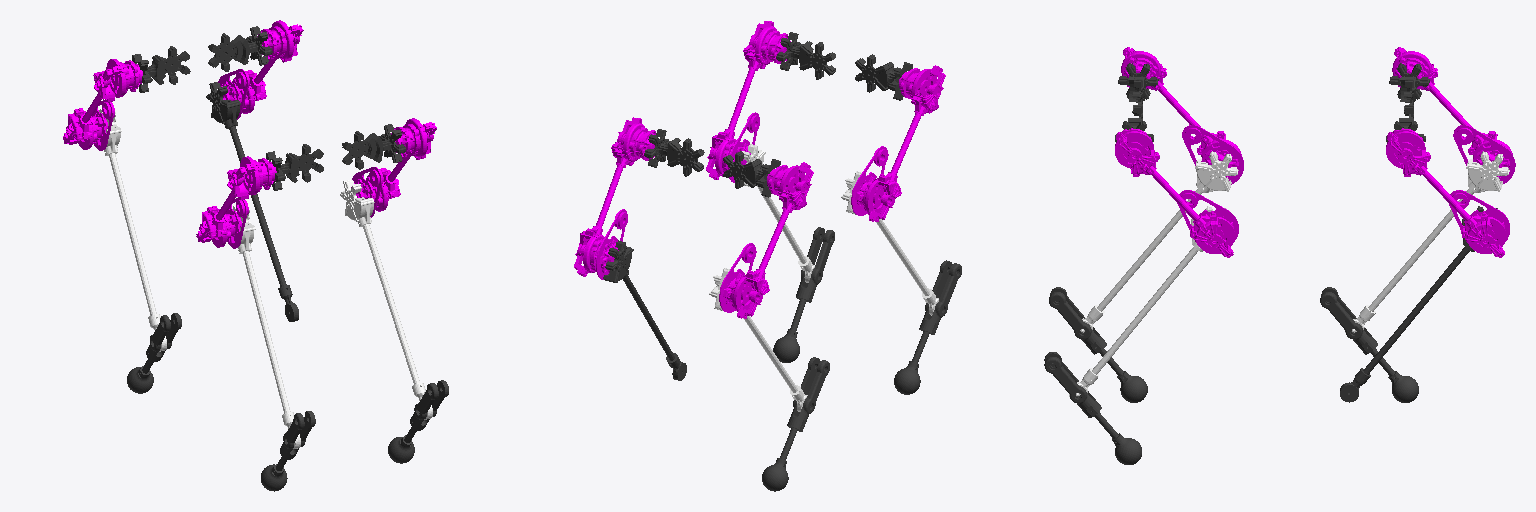
--- What the picture shows (computed from the rendered views, not written in the file) ---
Views: 3 orthographic renders of the robot side by side, from view 1: azimuth 30°, elevation 25°; view 2: azimuth 150°, elevation 25°; view 3: azimuth 270°, elevation 25°.
Model husky with 18 links and 17 joints (16 revolute, 1 fixed), rooted at base_link, posed every joint at zero.
Visible links, largest first — view 1: fl_femur, bl_femur, fr_femur, br_femur, br_tibia, fr_tibia, fl_tibia, bl_tibia, fr_hip, br_ankle, br_hip, fl_ankle1 (+3 smaller); view 2: bl_femur, fl_femur, fr_femur, br_femur, bl_ankle1, fl_ankle1, br_ankle, fr_tibia, fr_hip, br_hip, bl_hip, fl_hip (+3 smaller); view 3: br_femur, fr_femur, fl_femur, bl_femur, bl_tibia, fl_tibia, fl_ankle1, bl_ankle1, br_ankle, fr_tibia, br_tibia, bl_hip (+1 smaller).
Boxes of the visible links, <box> form: fl_femur: <box>63,59,142,150</box>; bl_femur: <box>196,156,276,248</box>; fr_femur: <box>218,20,303,119</box>; br_femur: <box>351,118,436,217</box>; br_tibia: <box>340,179,432,419</box>; fr_tibia: <box>206,82,298,321</box>; fl_tibia: <box>99,108,166,351</box>; bl_tibia: <box>233,205,300,448</box>; fr_hip: <box>208,26,272,71</box>; br_ankle: <box>388,380,448,463</box>; br_hip: <box>342,124,405,169</box>; fl_ankle1: <box>127,313,181,393</box>; bl_femur: <box>851,65,945,221</box>; fl_femur: <box>719,162,813,318</box>; fr_femur: <box>574,117,655,279</box>; br_femur: <box>706,21,790,182</box>; bl_ankle1: <box>894,260,961,394</box>; fl_ankle1: <box>762,357,829,491</box>; br_ankle: <box>773,227,834,362</box>; fr_tibia: <box>603,240,686,380</box>; fr_hip: <box>644,129,704,176</box>; br_hip: <box>776,32,835,79</box>; bl_hip: <box>855,54,912,100</box>; fl_hip: <box>723,151,780,197</box>; br_femur: <box>1115,128,1238,257</box>; fr_femur: <box>1386,128,1509,257</box>; fl_femur: <box>1392,47,1515,183</box>; bl_femur: <box>1121,47,1243,184</box>; bl_tibia: <box>1080,151,1238,332</box>; fl_tibia: <box>1345,151,1509,332</box>; fl_ankle1: <box>1320,287,1418,402</box>; bl_ankle1: <box>1049,287,1147,402</box>; br_ankle: <box>1044,352,1141,464</box>; fr_tibia: <box>1340,206,1497,402</box>; br_tibia: <box>1069,206,1226,396</box>; bl_hip: <box>1118,63,1158,115</box>.
Bounding box of the posed robot: 0.3418 × 0.6857 × 0.5489 m (x, y, z).
Meshes: 17 distinct files referenced, 15 mesh visuals loaded (15 binary STL); not drawn: 2 (reference not matched to a file when rendering).

The robot description file, URDF, robot "husky":
<?xml version="1.0" encoding="utf-8"?>
<!-- This URDF was automatically created by SolidWorks to URDF Exporter! Originally created by Stephen Brawner ([email redacted]) 
     Commit Version: 1.5.1-0-g916b5db  Build Version: 1.5.7152.31018
     For more information, please see http://wiki.ros.org/sw_urdf_exporter -->
<robot
  name="husky">
  <link name="base_link" />
  <joint name="base_link_to_body" type="fixed">
    <parent link="base_link"/>
    <child link="body_link"/>
  </joint>
  <link
    name="body_link">
    <inertial>
      <origin
        xyz="4.06758537265656E-06 0.000820071186987414 -0.0130892456746474"
        rpy="0 0 0" />
      <mass
        value="0.650642071200738" />
      <inertia
        ixx="0.000702785587982822"
        ixy="3.10268003525812E-12"
        ixz="-1.39769952404109E-08"
        iyy="0.000575707963375727"
        iyz="3.49464208277368E-05"
        izz="0.00038021356021992" />
    </inertial>
    <visual>
      <origin
        xyz="0 0 0"
        rpy="0 0 0" />
      <geometry>
        <mesh
          filename="package://husky/meshes/body_link.STL" />
      </geometry>
      <material
        name="">
        <color
          rgba="1 1 1 1" />
      </material>
    </visual>
    <collision>
      <origin
        xyz="0 0 0"
        rpy="0 0 0" />
      <geometry>
        <mesh
          filename="package://husky/meshes/body_link.STL" />
      </geometry>
    </collision>
  </link>
  <link
    name="fr_hip">
    <inertial>
      <origin
        xyz="0.0235659416192397 -5.02975094754526E-05 -0.00302882523131529"
        rpy="0 0 0" />
      <mass
        value="0.043087821298853" />
      <inertia
        ixx="9.96889081166613E-06"
        ixy="7.48752042250553E-08"
        ixz="-2.39318971572093E-06"
        iyy="2.495443482671E-05"
        iyz="5.09645733504537E-09"
        izz="2.81283771269796E-05" />
    </inertial>
    <visual>
      <origin
        xyz="0 0 0"
        rpy="0 0 0" />
      <geometry>
        <mesh
          filename="package://husky/meshes/fr_hip.STL" />
      </geometry>
      <material
        name="">
        <color
          rgba="0.298039215686275 0.298039215686275 0.298039215686275 1" />
      </material>
    </visual>
    <collision>
      <origin
        xyz="0 0 0"
        rpy="0 0 0" />
      <geometry>
        <mesh
          filename="package://husky/meshes/fr_hip.STL" />
      </geometry>
    </collision>
  </link>
  <joint
    name="fr_hip_frontal"
    type="revolute">
    <origin
      xyz="0.045 0.2087 6.7316E-05"
      rpy="1.5708 -0.0089958 0" />
    <parent
      link="body_link" />
    <child
      link="fr_hip" />
    <axis
      xyz="0 0 1" />
    <limit
      lower="-3.1416"
      upper="3.1416"
      effort="1000"
      velocity="1000" />
  </joint>
  <link
    name="fr_femur">
    <inertial>
      <origin
        xyz="0.0977320131555891 0.000213425452149169 0.0151762014845763"
        rpy="0 0 0" />
      <mass
        value="0.141836258887396" />
      <inertia
        ixx="2.7823052910979E-05"
        ixy="4.29443317670773E-09"
        ixz="-1.68703794772547E-09"
        iyy="4.88420495545191E-05"
        iyz="2.55345263711604E-07"
        izz="6.72264489194492E-05" />
    </inertial>
    <visual>
      <origin
        xyz="0 0 0"
        rpy="0 0 0" />
      <geometry>
        <mesh
          filename="package://husky/meshes/fr_femur.STL" />
      </geometry>
      <material
        name="">
        <color
          rgba="1 0 1 1" />
      </material>
    </visual>
    <collision>
      <origin
        xyz="0 0 0"
        rpy="0 0 0" />
      <geometry>
        <mesh
          filename="package://husky/meshes/fr_femur.STL" />
      </geometry>
    </collision>
  </link>
  <joint
    name="fr_hip_sagittal"
    type="revolute">
    <origin
      xyz="0.103120000000001 0 0"
      rpy="1.58460354760444 0.709564137847273 -1.5707963267949" />
    <parent
      link="fr_hip" />
    <child
      link="fr_femur" />
    <axis
      xyz="0 0 1" />
    <limit
      lower="-3.1416"
      upper="3.1416"
      effort="1000"
      velocity="1000" />
  </joint>
 
  <link
    name="fr_tibia">
    <inertial>
      <origin
        xyz="0.108667402573553 1.03670573461945E-05 -0.00287570362838266"
        rpy="0 0 0" />
      <mass
        value="0.0478195851341902" />
      <inertia
        ixx="8.45826029568533E-06"
        ixy="9.485425634069E-10"
        ixz="-1.28983370549278E-06"
        iyy="4.69251077636551E-05"
        iyz="-1.94160829243736E-09"
        izz="5.27944193001364E-05" />
    </inertial>
    <visual>
      <origin
        xyz="0 0 0"
        rpy="0 0 0" />
      <geometry>
        <mesh
          filename="package://husky/meshes/fr_tibia.STL" />
      </geometry>
      <material
        name="">
        <color
          rgba="0.298039215686275 0.298039215686275 0.298039215686275 1" />
      </material>
    </visual>
    <collision>
      <origin
        xyz="0 0 0"
        rpy="0 0 0" />
      <geometry>
        <mesh
          filename="package://husky/meshes/fr_tibia.STL" />
      </geometry>
    </collision>
  </link>
  <joint
    name="fr_knee"
    type="revolute">
    <origin
      xyz="0.179999999999999 0.000595348444745458 0.0431158898809868"
      rpy="3.13857993756883 0.013474547784072 1.35082136703004" />
    <parent
      link="fr_femur" />
    <child
      link="fr_tibia" />
    <axis
      xyz="0 0 -1" />
    <limit
      lower="-3.1416"
      upper="3.1416"
      effort="1000"
      velocity="1000" />
  </joint>

  <!--><link
    name="fr_fibula">
    <inertial>
      <origin
        xyz="0.170112072730515 -3.34118677169926E-10 -6.135396598686E-05"
        rpy="0 0 0" />
      <mass
        value="0.0286089978267731" />
      <inertia
        ixx="1.22504250160217E-06"
        ixy="-2.3511926483844E-13"
        ixz="-4.49710595129967E-08"
        iyy="4.02627508345098E-05"
        iyz="2.05500068305621E-14"
        izz="4.07891301279069E-05" />
    </inertial>
    <visual>
      <origin
        xyz="0 0 0"
        rpy="0 0 0" />
      <geometry>
        <mesh
          filename="package://husky/meshes/fr_fibula.STL" />
      </geometry>
      <material
        name="">
        <color
          rgba="0.298039215686275 0.298039215686275 0.298039215686275 1" />
      </material>
    </visual>
    <collision>
      <origin
        xyz="0 0 0"
        rpy="0 0 0" />
      <geometry>
        <mesh
          filename="package://husky/meshes/fr_fibula.STL" />
      </geometry>
    </collision>
  </link>
  <joint
    name="fr_control_rod"
    type="revolute">
    <origin
      xyz="-0.0130911226541172 -0.0585544405459958 0"
      rpy="0 0 0.00228072916830797" />
    <parent
      link="fr_tibia" />
    <child
      link="fr_fibula" />
    <axis
      xyz="0 0 -1" />
    <limit
      lower="-1.10000"
      upper="1.10000"
      effort="1000"
      velocity="1000" />
  </joint><!-->
  <link
    name="fr_ankle1">
    <inertial>
      <origin
        xyz="0.0527701413832593 5.98786159544673E-09 -3.07167094537597E-09"
        rpy="0 0 0" />
      <mass
        value="0.0716006134744626" />
      <inertia
        ixx="9.73912821038023E-06"
        ixy="9.99833576307028E-12"
        ixz="-6.12733558966033E-12"
        iyy="4.80541438877769E-05"
        iyz="-2.52914459536402E-08"
        izz="4.65434271131211E-05" />
    </inertial>
    <visual>
      <origin
        xyz="0 0 0"
        rpy="0 0 0" />
      <geometry>
        <mesh
          filename="package://husky/meshes/fr_ankle1.STL" />
      </geometry>
      <material
        name="">
        <color
          rgba="0.250980392156863 0.250980392156863 0.250980392156863 1" />
      </material>
    </visual>
    <collision>
      <origin
        xyz="0 0 0"
        rpy="0 0 0" />
      <geometry>
        <mesh
          filename="package://husky/meshes/fr_ankle1.STL" />
      </geometry>
    </collision>
  </link>
  <joint
    name="fr_ankle1"
    type="revolute">
    <origin
      xyz="0.332999999999978 0 0"
      rpy="0.0147095738050274 0 1.29927256648305" />
    <parent
      link="fr_tibia" />
    <child
      link="fr_ankle1" />
    <axis
      xyz="0 0 -1" />
    <limit
      lower="-3.1416"
      upper="3.1416"
      effort="1000"
      velocity="1000" />
  </joint>

  <!--><gazebo>
    <plugin name="Myrobot_ClosedLoopPlugin" filename="libpegasus_gazebo_closed_loop_plugin.so">
       <joint>add_joint</joint>
       <child>fr_ankle</child>
       <parent>fr_fibula</parent>
       <position>0.316908019061522 -0.0578018005729246 0</position>
       <rotation>-3.12688307978477 0 1.29927256648305</rotation>
    </plugin>
  </gazebo>
  <joint
    name="fr_ankle2"
    type="revolute">
    <origin
      xyz="0.316908019061522 -0.0578018005729246 0"
      rpy="-3.12688307978477 0 1.29927256648305" />
    <parent
      link="fr_tibia" />
    <child
      link="fr_ankle2" />
    <axis
      xyz="0 0 -1" />
    <limit
      lower="-3.1416"
      upper="3.1416"
      effort="1000"
      velocity="1000" />
  </joint><!-->
  <link
    name="fl_hip">
    <inertial>
      <origin
        xyz="0.0282493684612892 -6.02933629341613E-05 -0.00254584522661777"
        rpy="0 0 0" />
      <mass
        value="0.0359443463061796" />
      <inertia
        ixx="9.43685191828271E-06"
        ixy="7.37780811237925E-08"
        ixz="-2.39318969539326E-06"
        iyy="2.44222430667982E-05"
        iyz="5.0964428440272E-09"
        izz="2.70762020706881E-05" />
    </inertial>
    <visual>
      <origin
        xyz="0 0 0"
        rpy="0 0 0" />
      <geometry>
        <mesh
          filename="package://husky/meshes/fl_hip.STL" />
      </geometry>
      <material
        name="">
        <color
          rgba="0.298039215686275 0.298039215686275 0.298039215686275 1" />
      </material>
    </visual>
    <collision>
      <origin
        xyz="0 0 0"
        rpy="0 0 0" />
      <geometry>
        <mesh
          filename="package://husky/meshes/fl_hip.STL" />
      </geometry>
    </collision>
  </link>
  <joint
    name="fl_hip_frontal"
    type="revolute">
    <origin
      xyz="-0.045 0.2087 6.7316E-05"
      rpy="-1.5708 0.0041099 -3.2416" />
    <parent
      link="body_link" />
    <child
      link="fl_hip" />
    <axis
      xyz="0 0 1" />
    <limit
      lower="-3.1416"
      upper="3.1416"
      effort="1000"
      velocity="1000" />
  </joint>

  <link
    name="fl_femur">
    <inertial>
      <origin
        xyz="0.097735664566592 -8.86668196140028E-05 -0.0151774442732597"
        rpy="0 0 0" />
      <mass
        value="0.141836241024003" />
      <inertia
        ixx="2.78209084130127E-05"
        ixy="-6.86050485994064E-09"
        ixz="-2.10349354351967E-10"
        iyy="4.88413151042281E-05"
        iyz="1.11126612612072E-07"
        izz="6.72293195789235E-05" />
    </inertial>
    <visual>
      <origin
        xyz="0 0 0"
        rpy="0 0 0" />
      <geometry>
        <mesh
          filename="package://husky/meshes/fl_femur.STL" />
      </geometry>
      <material
        name="">
        <color
          rgba="1 0 1 1" />
      </material>
    </visual>
    <collision>
      <origin
        xyz="0 0 0"
        rpy="0 0 0" />
      <geometry>
        <mesh
          filename="package://husky/meshes/fl_femur.STL" />
      </geometry>
    </collision>
  </link>
  <joint
    name="fl_hip_sagittal"
    type="revolute">
    <origin
      xyz="0.10311999999997 0 0"
      rpy="1.57704053014338 0.718419414164997 1.5707963267949" />
    <parent
      link="fl_hip" />
    <child
      link="fl_femur" />
    <axis
      xyz="0 0 -1" />
    <limit
      lower="-3.1416"
      upper="3.1416"
      effort="1000"
      velocity="1000" />
  </joint>

  <link
    name="fl_tibia">
    <inertial>
      <origin
        xyz="0.108667372217361 -3.01266882989371E-05 0.00287556526811775"
        rpy="0 0 0" />
      <mass
        value="0.0478195985634725" />
      <inertia
        ixx="8.45826258942994E-06"
        ixy="-9.81410668381142E-09"
        ixz="1.2897970285412E-06"
        iyy="4.69254141357913E-05"
        iyz="-4.22777598113288E-08"
        izz="5.27941202508793E-05" />
    </inertial>
    <visual>
      <origin
        xyz="0 0 0"
        rpy="0 0 0" />
      <geometry>
        <mesh
          filename="package://husky/meshes/fl_tibia.STL" />
      </geometry>
      <material
        name="">
        <color
          rgba="1 1 1 1" />
      </material>
    </visual>
    <collision>
      <origin
        xyz="0 0 0"
        rpy="0 0 0" />
      <geometry>
        <mesh
          filename="package://husky/meshes/fl_tibia.STL" />
      </geometry>
    </collision>
  </link>
  <joint
    name="fl_knee"
    type="revolute">
    <origin
      xyz="0.180000000037508 -0.000269248312142284 -0.0431191593767014"
      rpy="3.13340999472434 0.00610524102154951 1.359428333786" />
    <parent
      link="fl_femur" />
    <child
      link="fl_tibia" />
    <axis
      xyz="0 0 -1" />
    <limit
      lower="-3.1416"
      upper="3.1416"
      effort="1000"
      velocity="1000" />
  </joint>

  <!--><link
    name="fl_fibula">
    <inertial>
      <origin
        xyz="0.173017618887629 8.24402370924737E-07 -0.000119643467643107"
        rpy="0 0 0" />
      <mass
        value="0.0281285567790405" />
      <inertia
        ixx="1.21294907481145E-06"
        ixy="3.09741312563093E-10"
        ixz="-4.49699929206444E-08"
        iyy="4.02491489145296E-05"
        iyz="-3.6919425092119E-09"
        izz="4.07847285314466E-05" />
    </inertial>
    <visual>
      <origin
        xyz="0 0 0"
        rpy="0 0 0" />
      <geometry>
        <mesh
          filename="package://husky/meshes/fl_fibula.STL" />
      </geometry>
      <material
        name="">
        <color
          rgba="1 1 1 1" />
      </material>
    </visual>
    <collision>
      <origin
        xyz="0 0 0"
        rpy="0 0 0" />
      <geometry>
        <mesh
          filename="package://husky/meshes/fl_fibula.STL" />
      </geometry>
    </collision>
  </link>
  <joint
    name="fl_control_rod"
    type="revolute">
    <origin
      xyz="-0.0125876240226939 -0.0586633545982407 -0.000403178925974287"
      rpy="-2.0332093218573E-05 -1.51010961736925E-05 0.0021972420646294" />
    <parent
      link="fl_tibia" />
    <child
      link="fl_fibula" />
    <axis
      xyz="0 0 -1" />
    <limit
      lower="-3.1416"
      upper="3.1416"
      effort="1000"
      velocity="1000" />
  </joint><!-->
  <link
    name="fl_ankle1">
    <inertial>
      <origin
        xyz="0.0527701410212171 -1.66704727799782E-09 6.22933769844902E-09"
        rpy="0 0 0" />
      <mass
        value="0.0716006126035054" />
      <inertia
        ixx="9.73912803612692E-06"
        ixy="-4.16771955149913E-12"
        ixz="9.95982526725273E-12"
        iyy="4.80525051443511E-05"
        iyz="-8.96051836966132E-09"
        izz="4.65450652732413E-05" />
    </inertial>
    <visual>
      <origin
        xyz="0 0 0"
        rpy="0 0 0" />
      <geometry>
        <mesh
          filename="package://husky/meshes/fl_ankle1.STL" />
      </geometry>
      <material
        name="">
        <color
          rgba="0.298039215686275 0.298039215686275 0.298039215686275 1" />
      </material>
    </visual>
    <collision>
      <origin
        xyz="0 0 0"
        rpy="0 0 0" />
      <geometry>
        <mesh
          filename="package://husky/meshes/fl_ankle1.STL" />
      </geometry>
    </collision>
  </link>
  <joint
    name="fl_ankle1"
    type="revolute">
    <origin
      xyz="0.332999999999946 0 0"
      rpy="-3.13316320450768 -0.00663664144842005 1.30796805589786" />
    <parent
      link="fl_tibia" />
    <child
      link="fl_ankle1" />
    <axis
      xyz="0 0 1" />
    <limit
      lower="-3.1416"
      upper="3.1416"
      effort="1000"
      velocity="1000" />
  </joint>

  <!--><joint
    name="fl_ankle2"
    type="revolute">
    <origin
      xyz="0.317411579340789 -0.057938265257049 -0.000398195563863113"
      rpy="-3.13980706527822 -0.00663664144870868 1.30796805589888" />
    <parent
      link="fl_tibia" />
    <child
      link="fl_ankle2" />
    <axis
      xyz="0 0 -1" />
    <limit
      lower="-3.1416"
      upper="3.1416"
      effort="1000"
      velocity="1000" />
  </joint><!-->
  <link
    name="bl_hip">
    <inertial>
      <origin
        xyz="0.0282493778011171 5.58098405673731E-05 -0.0025458451994235"
        rpy="0 0 0" />
      <mass
        value="0.0359443464082496" />
      <inertia
        ixx="9.4364985732862E-06"
        ixy="1.21872410896532E-08"
        ixz="-2.39319042112897E-06"
        iyy="2.4422596375907E-05"
        iyz="-4.73944244968578E-09"
        izz="2.707620203077E-05" />
    </inertial>
    <visual>
      <origin
        xyz="0 0 0"
        rpy="0 0 0" />
      <geometry>
        <mesh
          filename="package://husky/meshes/bl_hip.STL" />
      </geometry>
      <material
        name="">
        <color
          rgba="0.298039215686275 0.298039215686275 0.298039215686275 1" />
      </material>
    </visual>
    <collision>
      <origin
        xyz="0 0 0"
        rpy="0 0 0" />
      <geometry>
        <mesh
          filename="package://husky/meshes/bl_hip.STL" />
      </geometry>
    </collision>
  </link>
  <joint
    name="bl_hip_frontal"
    type="revolute">
    <origin
      xyz="-0.045 -0.1862 0.00021732"
      rpy="-1.5708 0 -3.2416" />
    <parent
      link="body_link" />
    <child
      link="bl_hip" />
    <axis
      xyz="0 0 1" />
    <limit
      lower="-3.1416"
      upper="3.1416"
      effort="1000"
      velocity="1000" />
  </joint>

  <link
    name="bl_femur">
    <inertial>
      <origin
        xyz="0.097735664030511 6.1053197306371E-06 -0.015177702019726"
        rpy="0 0 0" />
      <mass
        value="0.14183624144033" />
      <inertia
        ixx="2.78209084541693E-05"
        ixy="-6.85901673387895E-09"
        ixz="-2.53196051268353E-10"
        iyy="4.88406444373774E-05"
        iyz="-3.69749931028712E-09"
        izz="6.7229990581419E-05" />
    </inertial>
    <visual>
      <origin
        xyz="0 0 0"
        rpy="0 0 0" />
      <geometry>
        <mesh
          filename="package://husky/meshes/bl_femur.STL" />
      </geometry>
      <material
        name="">
        <color
          rgba="1 0 1 1" />
      </material>
    </visual>
    <collision>
      <origin
        xyz="0 0 0"
        rpy="0 0 0" />
      <geometry>
        <mesh
          filename="package://husky/meshes/bl_femur.STL" />
      </geometry>
    </collision>
  </link>
  <joint
    name="bl_hip_sagittal"
    type="revolute">
    <origin
      xyz="0.103119129071278 0.000423815496092828 0"
      rpy="1.57079632690475 0.718419414157781 1.57490626396013" />
    <parent
      link="bl_hip" />
    <child
      link="bl_femur" />
    <axis
      xyz="0 0 -1" />
    <limit
      lower="-3.1416"
      upper="3.1416"
      effort="1000"
      velocity="1000" />
  </joint>

  <link
    name="bl_tibia">
    <inertial>
      <origin
        xyz="0.108667373405208 -3.01269721454736E-05 0.00287556518947636"
        rpy="0 0 0" />
      <mass
        value="0.0478195979882888" />
      <inertia
        ixx="8.45826223669303E-06"
        ixy="-9.81416372659261E-09"
        ixz="1.28979701650448E-06"
        iyy="4.69254141126836E-05"
        iyz="-4.22776893917143E-08"
        izz="5.27941199036933E-05" />
    </inertial>
    <visual>
      <origin
        xyz="0 0 0"
        rpy="0 0 0" />
      <geometry>
        <mesh
          filename="package://husky/meshes/bl_tibia.STL" />
      </geometry>
      <material
        name="">
        <color
          rgba="1 1 1 1" />
      </material>
    </visual>
    <collision>
      <origin
        xyz="0 0 0"
        rpy="0 0 0" />
      <geometry>
        <mesh
          filename="package://husky/meshes/bl_tibia.STL" />
      </geometry>
    </collision>
  </link>
  <joint
    name="bl_knee"
    type="revolute">
    <origin
      xyz="0.18000000003612 0 -0.0431200000000808"
      rpy="3.13472000571321 0 1.35943233275826" />
    <parent
      link="bl_femur" />
    <child
      link="bl_tibia" />
    <axis
      xyz="0 0 -1" />
    <limit
      lower="-3.1416"
      upper="3.1416"
      effort="1000"
      velocity="1000" />
  </joint>

  <!--><link
    name="bl_fibula">
    <inertial>
      <origin
        xyz="0.173017618887026 -3.09157005551342E-10 -0.000119646307878016"
        rpy="0 0 0" />
      <mass
        value="0.0281285567790405" />
      <inertia
        ixx="1.21294907481142E-06"
        ixy="-2.40099988080764E-13"
        ixz="-4.49710596151099E-08"
        iyy="4.02491234658541E-05"
        iyz="2.20003593228256E-14"
        izz="4.07847539801219E-05" />
    </inertial>
    <visual>
      <origin
        xyz="0 0 0"
        rpy="0 0 0" />
      <geometry>
        <mesh
          filename="package://husky/meshes/bl_fibula.STL" />
      </geometry>
      <material
        name="">
        <color
          rgba="0.298039215686275 0.298039215686275 0.298039215686275 1" />
      </material>
    </visual>
    <collision>
      <origin
        xyz="0 0 0"
        rpy="0 0 0" />
      <geometry>
        <mesh
          filename="package://husky/meshes/bl_fibula.STL" />
      </geometry>
    </collision>
  </link>
  <joint
    name="bl_control_rod"
    type="revolute">
    <origin
      xyz="-0.0125876240234288 -0.0586633545977923 -0.000403178925966738"
      rpy="0.00687263116363432 -1.51010961735398E-05 0.00219724206462962" />
    <parent
      link="bl_tibia" />
    <child
      link="bl_fibula" />
    <axis
      xyz="0 0 -1" />
    <limit
      lower="-3.1416"
      upper="3.1416"
      effort="1000"
      velocity="1000" />
  </joint><!-->
  <link
    name="bl_ankle1">
    <inertial>
      <origin
        xyz="0.0527701410273651 -1.66453811845102E-09 6.22932097571471E-09"
        rpy="0 0 0" />
      <mass
        value="0.0716006126035057" />
      <inertia
        ixx="9.73912803612694E-06"
        ixy="-4.16771954895803E-12"
        ixz="9.95982526453627E-12"
        iyy="4.80525051443511E-05"
        iyz="-8.96051836953186E-09"
        izz="4.65450652732413E-05" />
    </inertial>
    <visual>
      <origin
        xyz="0 0 0"
        rpy="0 0 0" />
      <geometry>
        <mesh
          filename="package://husky/meshes/bl_ankle1.STL" />
      </geometry>
      <material
        name="">
        <color
          rgba="0.298039215686275 0.298039215686275 0.298039215686275 1" />
      </material>
    </visual>
    <collision>
      <origin
        xyz="0 0 0"
        rpy="0 0 0" />
      <geometry>
        <mesh
          filename="package://husky/meshes/bl_ankle1.STL" />
      </geometry>
    </collision>
  </link>
  <joint
    name="bl_ankle1"
    type="revolute">
    <origin
      xyz="0.33299999999459 0 0"
      rpy="-3.13316320450778 -0.00663664144834673 1.30796805589786" />
    <parent
      link="bl_tibia" />
    <child
      link="bl_ankle1" />
    <axis
      xyz="0 0 1" />
    <limit
      lower="-3.1416"
      upper="3.1416"
      effort="1000"
      velocity="1000" />
  </joint>

  <!--><joint
    name="bl_ankle2"
    type="revolute">
    <origin
      xyz="0.317411579339452 -0.0579382652570491 -0.000398195563858714"
      rpy="-3.13980706527824 -0.00663664144863536 1.30796805589888" />
    <parent
      link="bl_tibia" />
    <child
      link="bl_ankle2" />
    <axis
      xyz="0 0 -1" />
    <limit
      lower="-3.1416"
      upper="3.1416"
      effort="1000"
      velocity="1000" />
  </joint><!-->
  <link
    name="br_hip">
    <inertial>
      <origin
        xyz="0.0282493684503724 6.02934703621445E-05 0.00254584519658796"
        rpy="0 0 0" />
      <mass
        value="0.0359443461080751" />
      <inertia
        ixx="9.43685186268733E-06"
        ixy="-7.37780927648381E-08"
        ixz="2.39318972307338E-06"
        iyy="2.44222430693133E-05"
        iyz="5.09645862724478E-09"
        izz="2.70762020942481E-05" />
    </inertial>
    <visual>
      <origin
        xyz="0 0 0"
        rpy="0 0 0" />
      <geometry>
        <mesh
          filename="package://husky/meshes/br_hip.STL" />
      </geometry>
      <material
        name="">
        <color
          rgba="0.298039215686275 0.298039215686275 0.298039215686275 1" />
      </material>
    </visual>
    <collision>
      <origin
        xyz="0 0 0"
        rpy="0 0 0" />
      <geometry>
        <mesh
          filename="package://husky/meshes/br_hip.STL" />
      </geometry>
    </collision>
  </link>
  <joint
    name="br_hip_frontal"
    type="revolute">
    <origin
      xyz="0.0449999999999997 -0.1862 0.000217315502645383"
      rpy="-1.5707963267949 -0.00899577710337079 0" />
    <parent
      link="body_link" />
    <child
      link="br_hip" />
    <axis
      xyz="0 0 -1" />
    <limit
      lower="-3.1416"
      upper="3.1416"
      effort="1000"
      velocity="1000" />
  </joint>

  <link
    name="br_femur">
    <inertial>
      <origin
        xyz="0.0977320129592313 0.000213425413635948 0.0151762013715998"
        rpy="0 0 0" />
      <mass
        value="0.141836258267776" />
      <inertia
        ixx="2.78230528087083E-05"
        ixy="4.2944468321045E-09"
        ixz="-1.68699040456136E-09"
        iyy="4.88420494806604E-05"
        iyz="2.5534531602839E-07"
        izz="6.72264488064851E-05" />
    </inertial>
    <visual>
      <origin
        xyz="0 0 0"
        rpy="0 0 0" />
      <geometry>
        <mesh
          filename="package://husky/meshes/br_femur.STL" />
      </geometry>
      <material
        name="">
        <color
          rgba="1 0 1 1" />
      </material>
    </visual>
    <collision>
      <origin
        xyz="0 0 0"
        rpy="0 0 0" />
      <geometry>
        <mesh
          filename="package://husky/meshes/br_femur.STL" />
      </geometry>
    </collision>
  </link>
  <joint
    name="br_hip_sagittal"
    type="revolute">
    <origin
      xyz="0.103120000000001 0 0"
      rpy="-1.55698910598539 -0.709564137847273 1.5707963267949" />
    <parent
      link="br_hip" />
    <child
      link="br_femur" />
    <axis
      xyz="0 0 1" />
    <limit
      lower="-3.1416"
      upper="3.1416"
      effort="1000"
      velocity="1000" />
  </joint>

  <link
    name="br_tibia">
    <inertial>
      <origin
        xyz="0.108667400148144 5.36054204351918E-05 -0.00287522279079774"
        rpy="0 0 0" />
      <mass
        value="0.0478195862237687" />
      <inertia
        ixx="8.45826069805717E-06"
        ixy="2.0342600271494E-08"
        ixz="-1.28967368706483E-06"
        iyy="4.69264933964661E-05"
        iyz="-9.01835036865154E-08"
        izz="5.27930345314702E-05" />
    </inertial>
    <visual>
      <origin
        xyz="0 0 0"
        rpy="0 0 0" />
      <geometry>
        <mesh
          filename="package://husky/meshes/br_tibia.STL" />
      </geometry>
      <material
        name="">
        <color
          rgba="1 1 1 1" />
      </material>
    </visual>
    <collision>
      <origin
        xyz="0 0 0"
        rpy="0 0 0" />
      <geometry>
        <mesh
          filename="package://husky/meshes/br_tibia.STL" />
      </geometry>
    </collision>
  </link>
  <joint
    name="br_knee"
    type="revolute">
    <origin
      xyz="0.179999999999994 0.000595348444749899 0.0431158898809868"
      rpy="3.12354308330135 0.0134745477840334 1.35082136703004" />
    <parent
      link="br_femur" />
    <child
      link="br_tibia" />
    <axis
      xyz="0 0 -1" />
    <limit
      lower="-3.1416"
      upper="3.1416"
      effort="1000"
      velocity="1000" />
  </joint>

  <!--><link
    name="br_fibula">
    <inertial>
      <origin
        xyz="0.173017618727357 -3.39825265149862E-10 -0.000119646304498247"
        rpy="0 0 0" />
      <mass
        value="0.028128556818969" />
      <inertia
        ixx="1.21294907488842E-06"
        ixy="-2.35119259120967E-13"
        ixz="-4.4971059512998E-08"
        iyy="4.02491234671135E-05"
        iyz="2.05500052843819E-14"
        izz="4.07847539820153E-05" />
    </inertial>
    <visual>
      <origin
        xyz="0 0 0"
        rpy="0 0 0" />
      <geometry>
        <mesh
          filename="package://husky/meshes/br_fibula.STL" />
      </geometry>
      <material
        name="">
        <color
          rgba="0.298039215686275 0.298039215686275 0.298039215686275 1" />
      </material>
    </visual>
    <collision>
      <origin
        xyz="0 0 0"
        rpy="0 0 0" />
      <geometry>
        <mesh
          filename="package://husky/meshes/br_fibula.STL" />
      </geometry>
    </collision>
  </link>
  <joint
    name="br_control_rod"
    type="revolute">
    <origin
      xyz="-0.0130911226541221 -0.0585478208866782 -0.000880441409336255"
      rpy="0.0150368151646123 -3.42936700273888E-05 0.00228047132966131" />
    <parent
      link="br_tibia" />
    <child
      link="br_fibula" />
    <axis
      xyz="0 0 -1" />
    <limit
      lower="-3.1416"
      upper="3.1416"
      effort="1000"
      velocity="1000" />
  </joint><!-->
  <link
    name="br_ankle">
    <inertial>
      <origin
        xyz="0.0527701413832928 -5.98787075478668E-09 3.07167111190942E-09"
        rpy="0 0 0" />
      <mass
        value="0.0716006134744624" />
      <inertia
        ixx="9.73912821038021E-06"
        ixy="-9.99833578297556E-12"
        ixz="6.12733558693394E-12"
        iyy="4.80541438877767E-05"
        iyz="-2.52914459535797E-08"
        izz="4.6543427113121E-05" />
    </inertial>
    <visual>
      <origin
        xyz="0 0 0"
        rpy="0 0 0" />
      <geometry>
        <mesh
          filename="package://husky/meshes/br_ankle.STL" />
      </geometry>
      <material
        name="">
        <color
          rgba="0.298039215686275 0.298039215686275 0.298039215686275 1" />
      </material>
    </visual>
    <collision>
      <origin
        xyz="0 0 0"
        rpy="0 0 0" />
      <geometry>
        <mesh
          filename="package://husky/meshes/br_ankle.STL" />
      </geometry>
    </collision>
  </link>
  <joint
    name="br_ankle1"
    type="revolute">
    <origin
      xyz="0.332999999999973 0 0"
      rpy="-3.12284991813426 -0.0144859149234315 1.29924335391435" />
    <parent
      link="br_tibia" />
    <child
      link="br_ankle" />
    <axis
      xyz="0 0 1" />
    <limit
      lower="-3.1416"
      upper="3.1416"
      effort="1000"
      velocity="1000" />
  </joint>
  <transmission name="bl_knee_trans">
    <type>transmission_interface/SimpleTransmission</type>
    <joint name="bl_knee">
      <hardwareInterface>hardware_interface/EffortJointInterface</hardwareInterface>
    </joint>
    <actuator name="bl_knee_motor">
      <mechanicalReduction>1</mechanicalReduction>
    </actuator>
  </transmission>
  <transmission name="bl_ankle1_trans">
    <type>transmission_interface/SimpleTransmission</type>
    <joint name="bl_ankle1">
      <hardwareInterface>hardware_interface/EffortJointInterface</hardwareInterface>
    </joint>
    <actuator name="bl_ankle1_motor">
      <mechanicalReduction>1</mechanicalReduction>
    </actuator>
  </transmission>
  <transmission name="br_hip_frontal_trans">
    <type>transmission_interface/SimpleTransmission</type>
    <joint name="br_hip_frontal">
      <hardwareInterface>hardware_interface/EffortJointInterface</hardwareInterface>
    </joint>
    <actuator name="br_hip_frontal_motor">
      <mechanicalReduction>1</mechanicalReduction>
    </actuator>
  </transmission>
  <transmission name="br_hip_sagittal_trans">
    <type>transmission_interface/SimpleTransmission</type>
    <joint name="br_hip_sagittal">
      <hardwareInterface>hardware_interface/EffortJointInterface</hardwareInterface>
    </joint>
    <actuator name="br_hip_sagittal_motor">
      <mechanicalReduction>1</mechanicalReduction>
    </actuator>
  </transmission>
  <transmission name="br_knee_trans">
    <type>transmission_interface/SimpleTransmission</type>
    <joint name="br_knee">
      <hardwareInterface>hardware_interface/EffortJointInterface</hardwareInterface>
    </joint>
    <actuator name="br_knee_motor">
      <mechanicalReduction>1</mechanicalReduction>
    </actuator>
  </transmission>
  <transmission name="fl_hip_frontal_trans">
    <type>transmission_interface/SimpleTransmission</type>
    <joint name="fl_hip_frontal">
      <hardwareInterface>hardware_interface/EffortJointInterface</hardwareInterface>
    </joint>
    <actuator name="fl_hip_frontal_motor">
      <mechanicalReduction>1</mechanicalReduction>
    </actuator>
  </transmission>
  <transmission name="fl_hip_sagittal_trans">
    <type>transmission_interface/SimpleTransmission</type>
    <joint name="fl_hip_sagittal">
      <hardwareInterface>hardware_interface/EffortJointInterface</hardwareInterface>
    </joint>
    <actuator name="fl_hip_sagittal_motor">
      <mechanicalReduction>1</mechanicalReduction>
    </actuator>
  </transmission>
  <transmission name="fl_knee_trans">
    <type>transmission_interface/SimpleTransmission</type>
    <joint name="fl_knee">
      <hardwareInterface>hardware_interface/EffortJointInterface</hardwareInterface>
    </joint>
    <actuator name="fl_knee_motor">
      <mechanicalReduction>1</mechanicalReduction>
    </actuator>
  </transmission>
  <transmission name="fl_ankle1_trans">
    <type>transmission_interface/SimpleTransmission</type>
    <joint name="fl_ankle1">
      <hardwareInterface>hardware_interface/EffortJointInterface</hardwareInterface>
    </joint>
    <actuator name="fl_ankle1_motor">
      <mechanicalReduction>1</mechanicalReduction>
    </actuator>
  </transmission>
  <transmission name="bl_hip_frontal_trans">
    <type>transmission_interface/SimpleTransmission</type>
    <joint name="bl_hip_frontal">
      <hardwareInterface>hardware_interface/EffortJointInterface</hardwareInterface>
    </joint>
    <actuator name="bl_hip_frontal_motor">
      <mechanicalReduction>1</mechanicalReduction>
    </actuator>
  </transmission>
  <transmission name="bl_hip_sagittal_trans">
    <type>transmission_interface/SimpleTransmission</type>
    <joint name="bl_hip_sagittal">
      <hardwareInterface>hardware_interface/EffortJointInterface</hardwareInterface>
    </joint>
    <actuator name="bl_hip_sagittal_motor">
      <mechanicalReduction>1</mechanicalReduction>
    </actuator>
  </transmission>
 <transmission name="fr_hip_sagittal_trans">
    <type>transmission_interface/SimpleTransmission</type>
    <joint name="fr_hip_sagittal">
      <hardwareInterface>hardware_interface/EffortJointInterface</hardwareInterface>
    </joint>
    <actuator name="fr_hip_sagittal_motor">
      <mechanicalReduction>1</mechanicalReduction>
    </actuator>
  </transmission>
  <transmission name="fr_knee_trans">
    <type>transmission_interface/SimpleTransmission</type>
    <joint name="fr_knee">
      <hardwareInterface>hardware_interface/EffortJointInterface</hardwareInterface>
    </joint>
    <actuator name="fr_knee_motor">
      <mechanicalReduction>1</mechanicalReduction>
    </actuator>
  </transmission>
  <transmission name="fr_ankle1_trans">
    <type>transmission_interface/SimpleTransmission</type>
    <joint name="fr_ankle1">
      <hardwareInterface>hardware_interface/EffortJointInterface</hardwareInterface>
    </joint>
    <actuator name="fr_ankle1_motor">
      <mechanicalReduction>1</mechanicalReduction>
    </actuator>
  </transmission>
  <transmission name="br_ankle1_trans">
    <type>transmission_interface/SimpleTransmission</type>
    <joint name="br_ankle1">
      <hardwareInterface>hardware_interface/EffortJointInterface</hardwareInterface>
    </joint>
    <actuator name="br_ankle1_motor">
      <mechanicalReduction>1</mechanicalReduction>
    </actuator>
  </transmission>
  <transmission name="fr_hip_frontal_trans">
    <type>transmission_interface/SimpleTransmission</type>
    <joint name="fr_hip_frontal">
      <hardwareInterface>hardware_interface/EffortJointInterface</hardwareInterface>
    </joint>
    <actuator name="fr_hip_frontal_motor">
      <mechanicalReduction>1</mechanicalReduction>
    </actuator>
  </transmission>
  <gazebo>
    <plugin name="gazebo_ros_control" filename="libgazebo_ros_control.so">
      <robotNamespace>/husky</robotNamespace>
    </plugin>
  </gazebo>
<!--joint
    name="br_ankle2"
    type="revolute">
    <origin
      xyz="0.316908019061517 -0.0577952660005815 -0.000869124498228915"
      rpy="-3.12284991813426 -0.0144859149234315 1.29924335391435" />
    <parent
      link="br_tibia" />
    <child
      link="br_ankle2" />
    <axis
      xyz="0 0 -1" />
    <limit
      lower="-3.1416"
      upper="3.1416"
      effort="1000"
      velocity="1000" />
  </joint><!-->
</robot>
